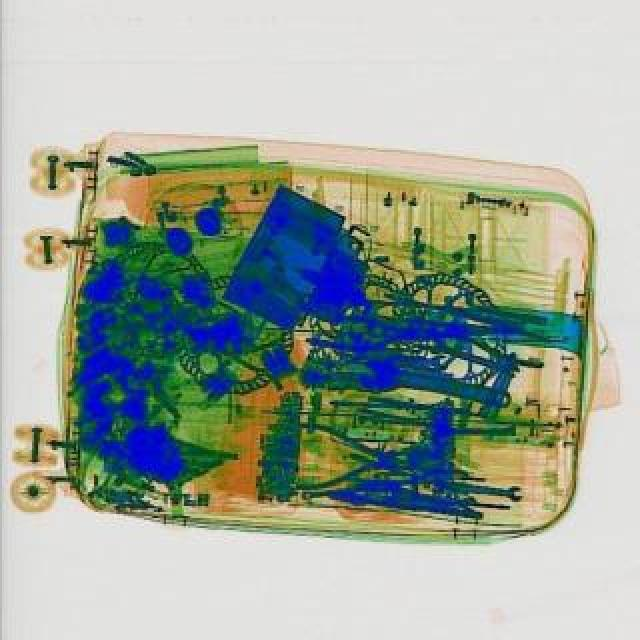scissors: (354, 356, 514, 414), (436, 472, 522, 502)
wrench: (284, 422, 396, 492)
